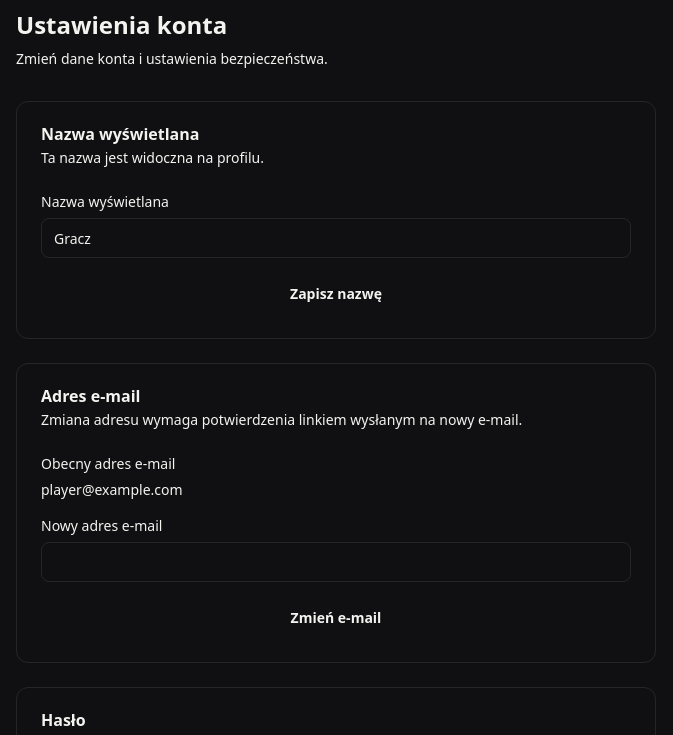
Scenario: SettingsPage › shows API error on display name change failure
This screenshot has width=673, height=735.
Click the button "Zapisz nazwę": click(336, 294) x1=41 y1=274 x2=631 y2=314
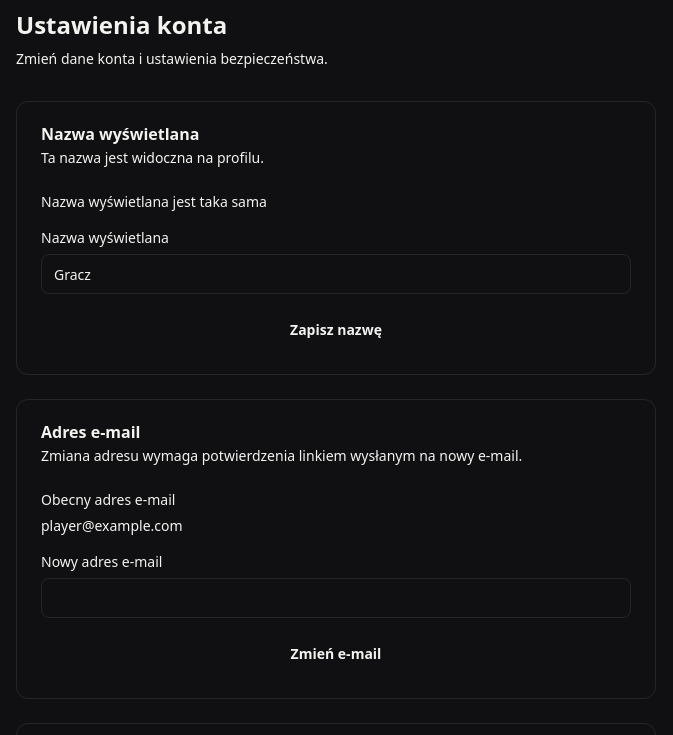
Expected: the message reads "Nazwa wyświetlana jest taka sama", x1=41 y1=192 x2=267 y2=211
